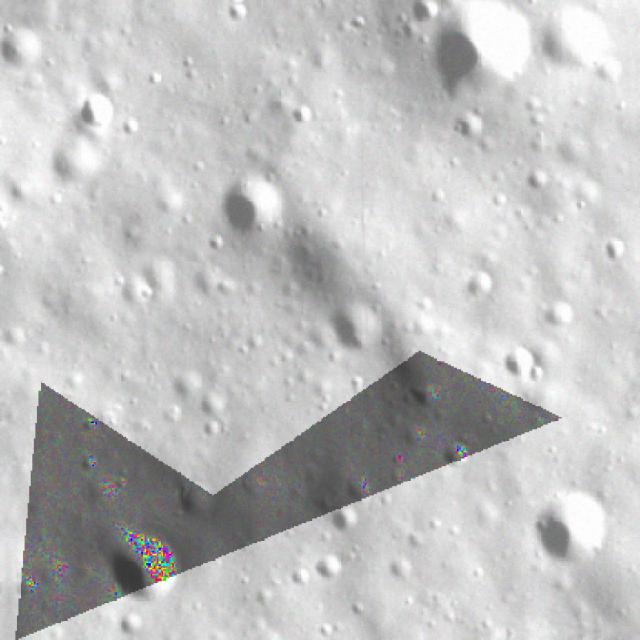crater: (428, 7, 532, 105), (98, 524, 202, 621), (523, 487, 609, 570), (212, 173, 296, 252), (543, 1, 615, 84), (51, 122, 120, 205), (474, 331, 544, 391), (322, 299, 382, 363), (319, 493, 361, 535), (168, 479, 212, 516), (80, 92, 118, 133), (403, 0, 445, 31)
